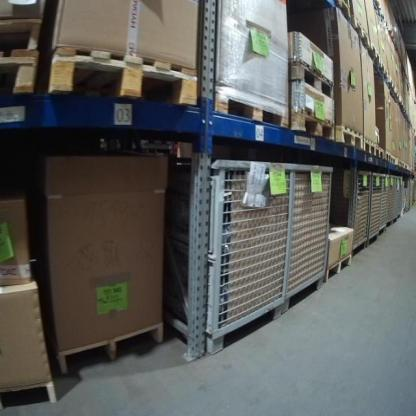pallet: (49, 41, 200, 112), (57, 321, 164, 379), (211, 81, 290, 136), (1, 46, 41, 108), (291, 105, 337, 147), (290, 57, 334, 98), (1, 376, 54, 410), (0, 11, 48, 45), (324, 253, 353, 284), (338, 127, 365, 155), (329, 1, 353, 23), (364, 136, 376, 159), (376, 143, 386, 161)
stillage: (167, 148, 293, 356), (282, 156, 336, 318), (332, 167, 371, 259), (366, 170, 381, 248), (377, 171, 390, 240), (389, 173, 395, 229), (396, 173, 400, 230), (399, 176, 404, 219), (404, 190, 411, 214)
